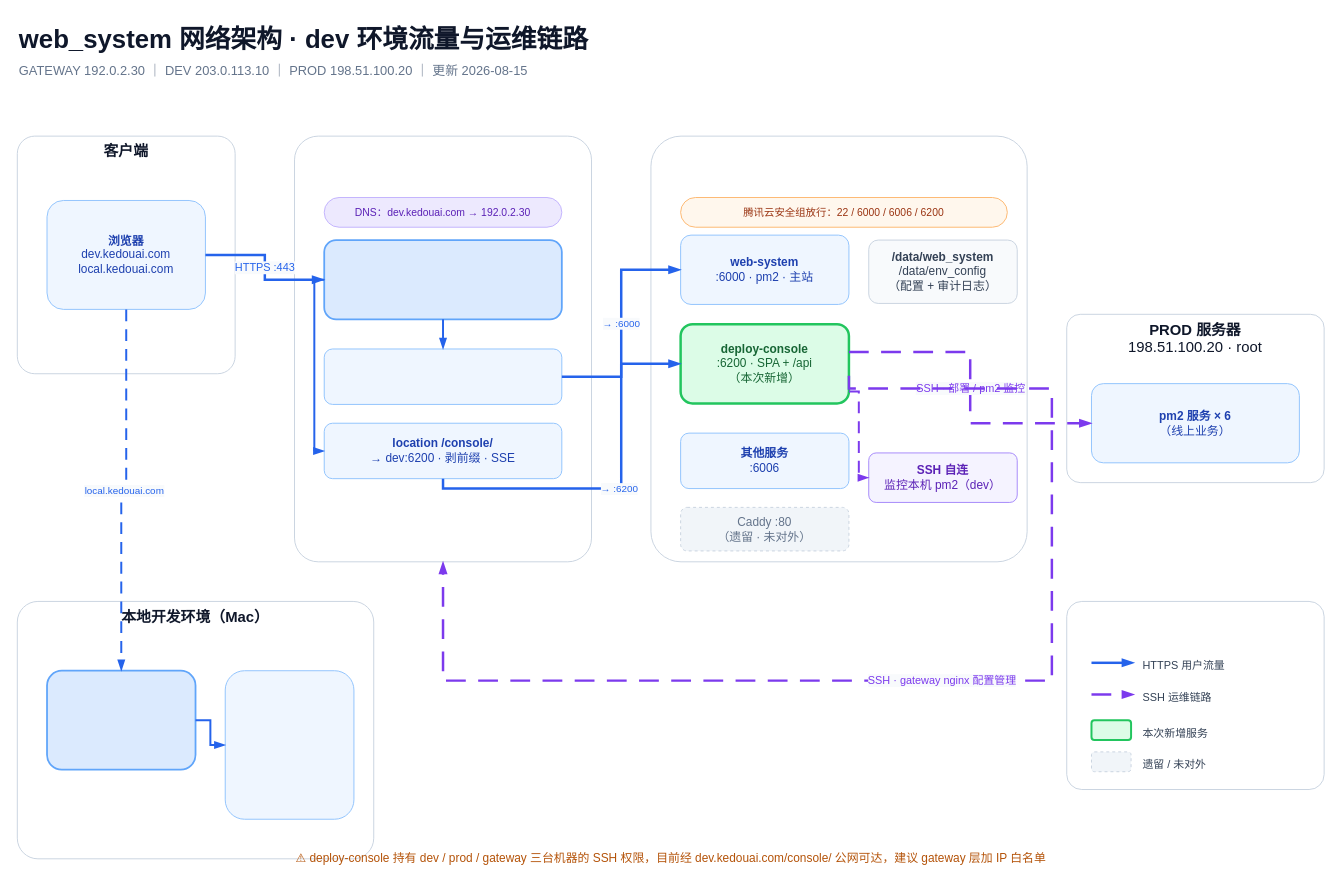
The diagram is 1341 pixels wide and 885 high, and some of its shapes have lost their labels. Here are the shapes that lost their labels. From the top down, the box of each, then its label:
(323, 239, 562, 320): nginx · 反向代理 :80 / :443（TLS 证书）
(294, 135, 592, 562): GATEWAY 机 · 公网入口 192.0.2.30 · root
(650, 135, 1027, 562): DEV 服务器 203.0.113.10 · ubuntu
(323, 348, 562, 404): location / → dev:6000 · web-system
(1066, 600, 1324, 790): 图例
(46, 669, 196, 770): 本地 nginx local.nginx.conf local.kedouai.com
(224, 670, 354, 819): web_system :6000 主站 :6200 console :6006 …
